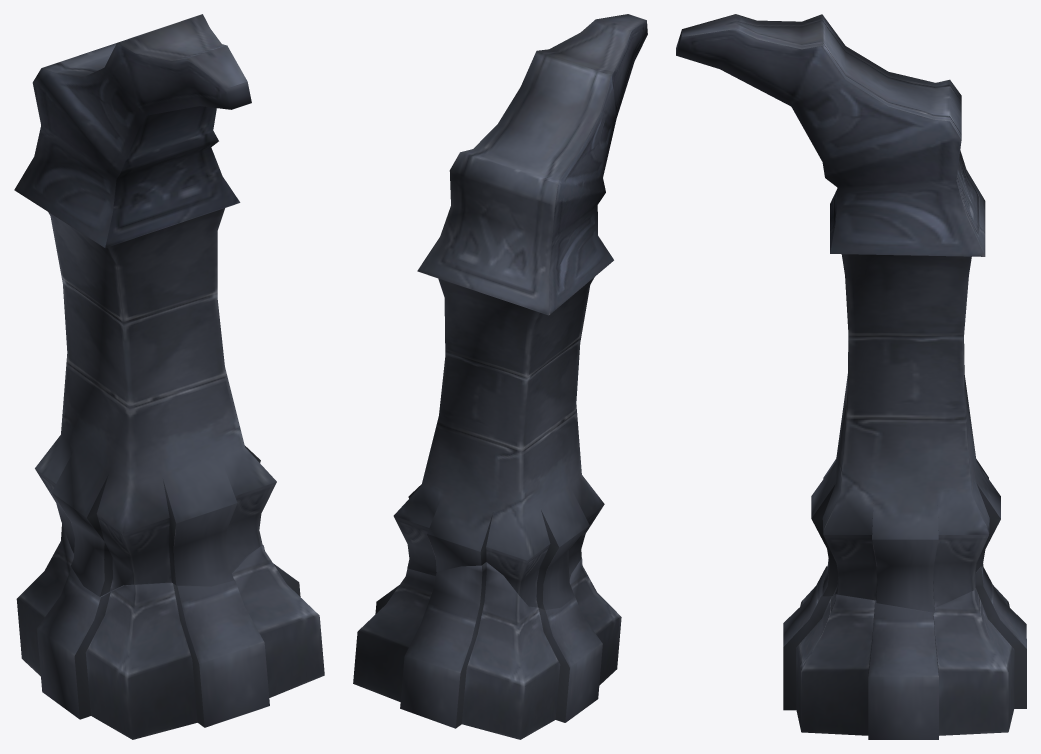
File: Beidaying_lanzhuzi01.FBX
3 views of the same model, side by side, from view 1: azimuth 30°, elevation 25°; view 2: azimuth 150°, elevation 25°; view 3: azimuth 270°, elevation 25° (orthographic). The views are drawn at different scales.
Visible parts, largest first — view 1: Beidaying_lanzhuzi01; view 2: Beidaying_lanzhuzi01; view 3: Beidaying_lanzhuzi01.
Part boxes in pixels (<box>): Beidaying_lanzhuzi01: <box>14,14,324,739</box>; Beidaying_lanzhuzi01: <box>353,14,647,739</box>; Beidaying_lanzhuzi01: <box>676,14,1026,739</box>.
Size of the model in its own units: 87.1 by 124 by 258.
